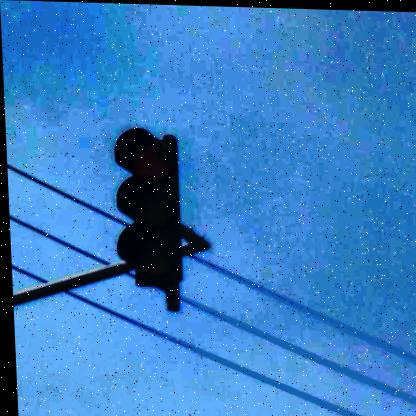Traffic Light -Red-: (111, 127, 183, 288)
